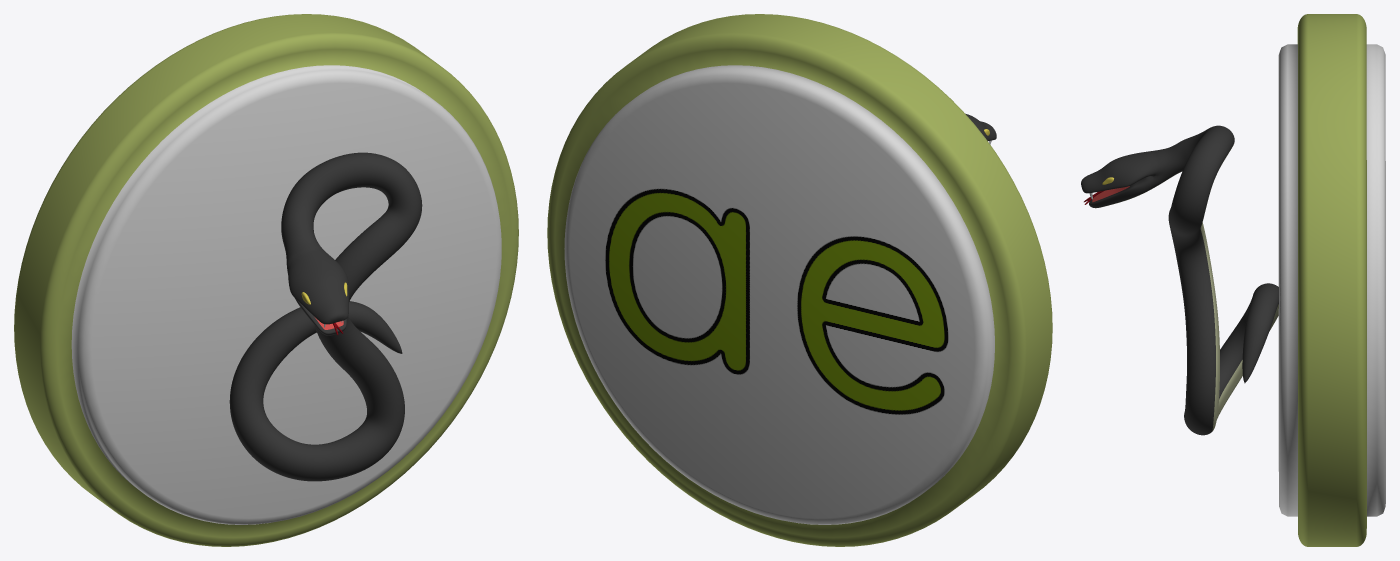
File: snake.gltf
The picture shows the model from 3 angles, left to right: view 1: azimuth 30°, elevation 25°; view 2: azimuth 150°, elevation 25°; view 3: azimuth 270°, elevation 25°; orthographic projection. The views are drawn at different scales.
Visible parts, largest first — view 1: coin, Cylinder; view 2: coin; view 3: coin, Cylinder.
Part boxes in pixels (x1,y1,x2,y2): coin: (14,14,518,546); Cylinder: (229,152,422,481); coin: (547,14,1052,546); coin: (1278,14,1385,546); Cylinder: (1081,125,1278,435).
Bounding box in the file's own units: 2.56 × 2.56 × 1.46.
9 materials, 1 textured.
